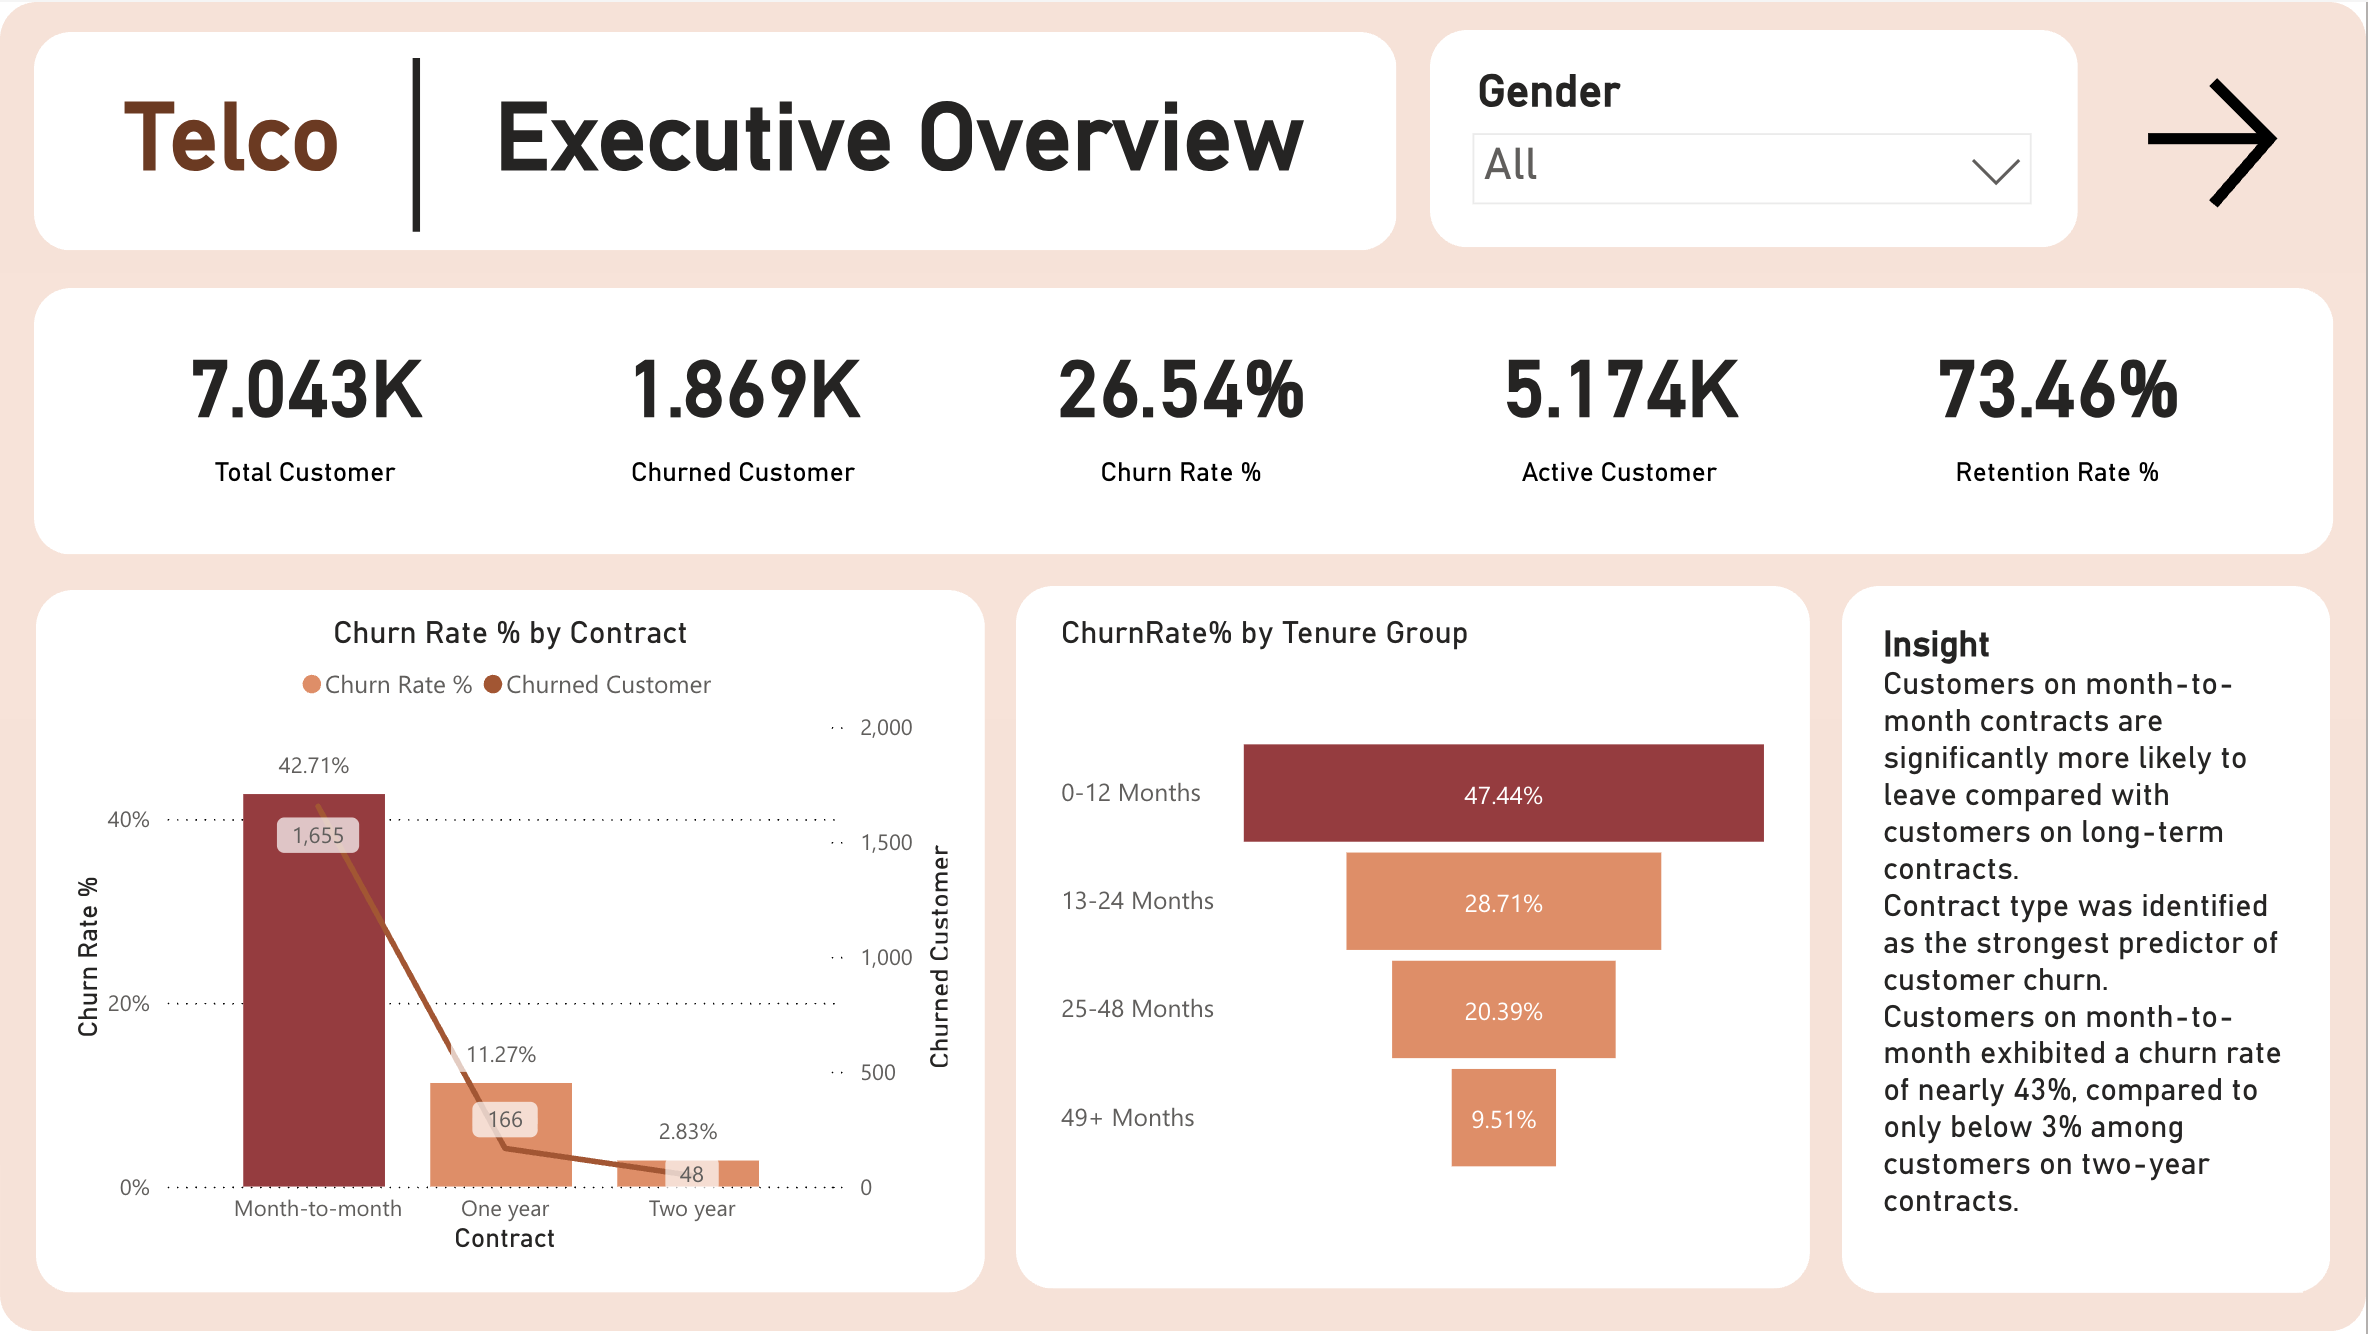

The page's visual inventory and layout, read from the dashboard file:
{"tool":"powerbi","page":{"name":"Executive Dashboard","canvas":[1280,720],"ordinal":0},"visuals":[{"type":"shape","box":[0,0,1280,719.1],"z":0},{"type":"shape","box":[18,16,737.2,118.2],"z":1000},{"type":"textbox","box":[62.1,44.1,168.3,84.1],"z":2000},{"type":"textbox","box":[262.4,44.1,480.8,84.1],"z":3000},{"type":"shape","box":[160.3,30,130.2,94.1],"z":4000},{"type":"shape","box":[18,154.2,1243.9,144.2],"z":5000},{"type":"cardVisual","fields":{"Data":["CountNonNull(Telco Customer Churn Dataset.customerID)","Telco Customer Churn Dataset.ChurnedCustomer","Telco Customer Churn Dataset.ChurnRate%","Telco Customer Churn Dataset.ActiveCustomer","Telco Customer Churn Dataset.RetentionRate%"]},"box":[34.1,174.3,1213.9,114.2],"z":6000},{"type":"shape","box":[19.3,317.9,513.3,380.1],"z":7000},{"type":"lineStackedColumnComboChart","title":"Churn Rate % by Contract","fields":{"Category":["Telco Customer Churn Dataset.Contract"],"Y":["Telco Customer Churn Dataset.ChurnRate%"],"Y2":["Telco Customer Churn Dataset.ChurnedCustomer"]},"box":[34.4,332.9,483.2,347.9],"z":8000},{"type":"shape","box":[996.5,315.7,264.2,382.3],"z":9000},{"type":"textbox","box":[1013.7,332.9,231.9,365.1],"z":10000},{"type":"shape","box":[773.6,15,350.5,117.5],"z":11000},{"type":"slicer","fields":{"Values":["Telco Customer Churn Dataset.gender"]},"box":[786.4,32.1,322.7,98.3],"z":12000},{"type":"actionButton","box":[1153.9,34.2,102.6,83.3],"z":13000},{"type":"shape","box":[549.8,315.7,429.5,380.1],"z":14000},{"type":"funnel","fields":{"Category":["Telco Customer Churn Dataset.TenureGroup"],"Y":["Telco Customer Churn Dataset.ChurnRate%"]},"box":[569.1,332.9,395.2,347.9],"z":15000}]}

Visuals, with their boxes in screenshot pixels (x1, y1, x2, y2), scaled from the page's 1280x720 canvas onto the 2368x1334 screenshot:
shape: BBox(0, 0, 2367, 1332)
shape: BBox(33, 30, 1397, 249)
textbox: BBox(115, 82, 426, 238)
textbox: BBox(485, 82, 1375, 238)
shape: BBox(297, 56, 537, 230)
shape: BBox(33, 286, 2335, 553)
cardVisual - CountNonNull(Telco Customer Churn Dataset.customerID) x Telco Customer Churn Dataset.ChurnedCustomer: BBox(63, 323, 2309, 535)
shape: BBox(36, 589, 985, 1293)
"Churn Rate % by Contract" lineStackedColumnComboChart: BBox(64, 617, 958, 1261)
shape: BBox(1844, 585, 2332, 1293)
textbox: BBox(1875, 617, 2304, 1293)
shape: BBox(1431, 28, 2080, 245)
slicer - Telco Customer Churn Dataset.gender: BBox(1455, 59, 2052, 242)
actionButton: BBox(2135, 63, 2325, 218)
shape: BBox(1017, 585, 1812, 1289)
funnel - Telco Customer Churn Dataset.TenureGroup x Telco Customer Churn Dataset.ChurnRate%: BBox(1053, 617, 1784, 1261)
